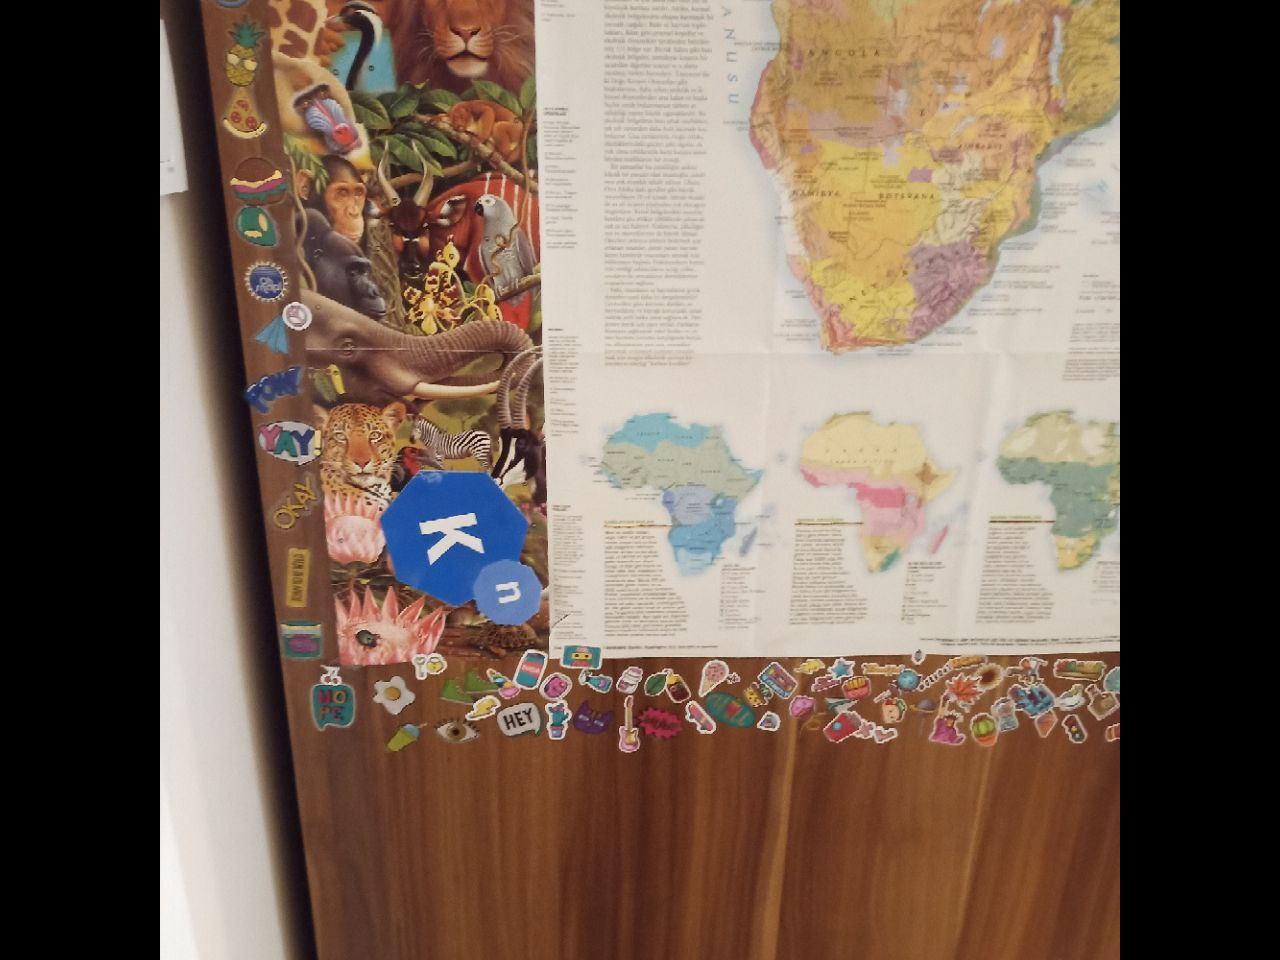knative: (383, 473, 544, 625)
